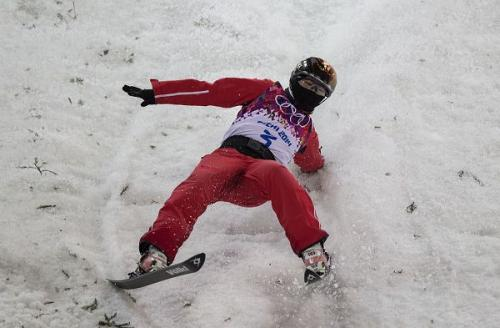fall: (115, 37, 346, 298)
